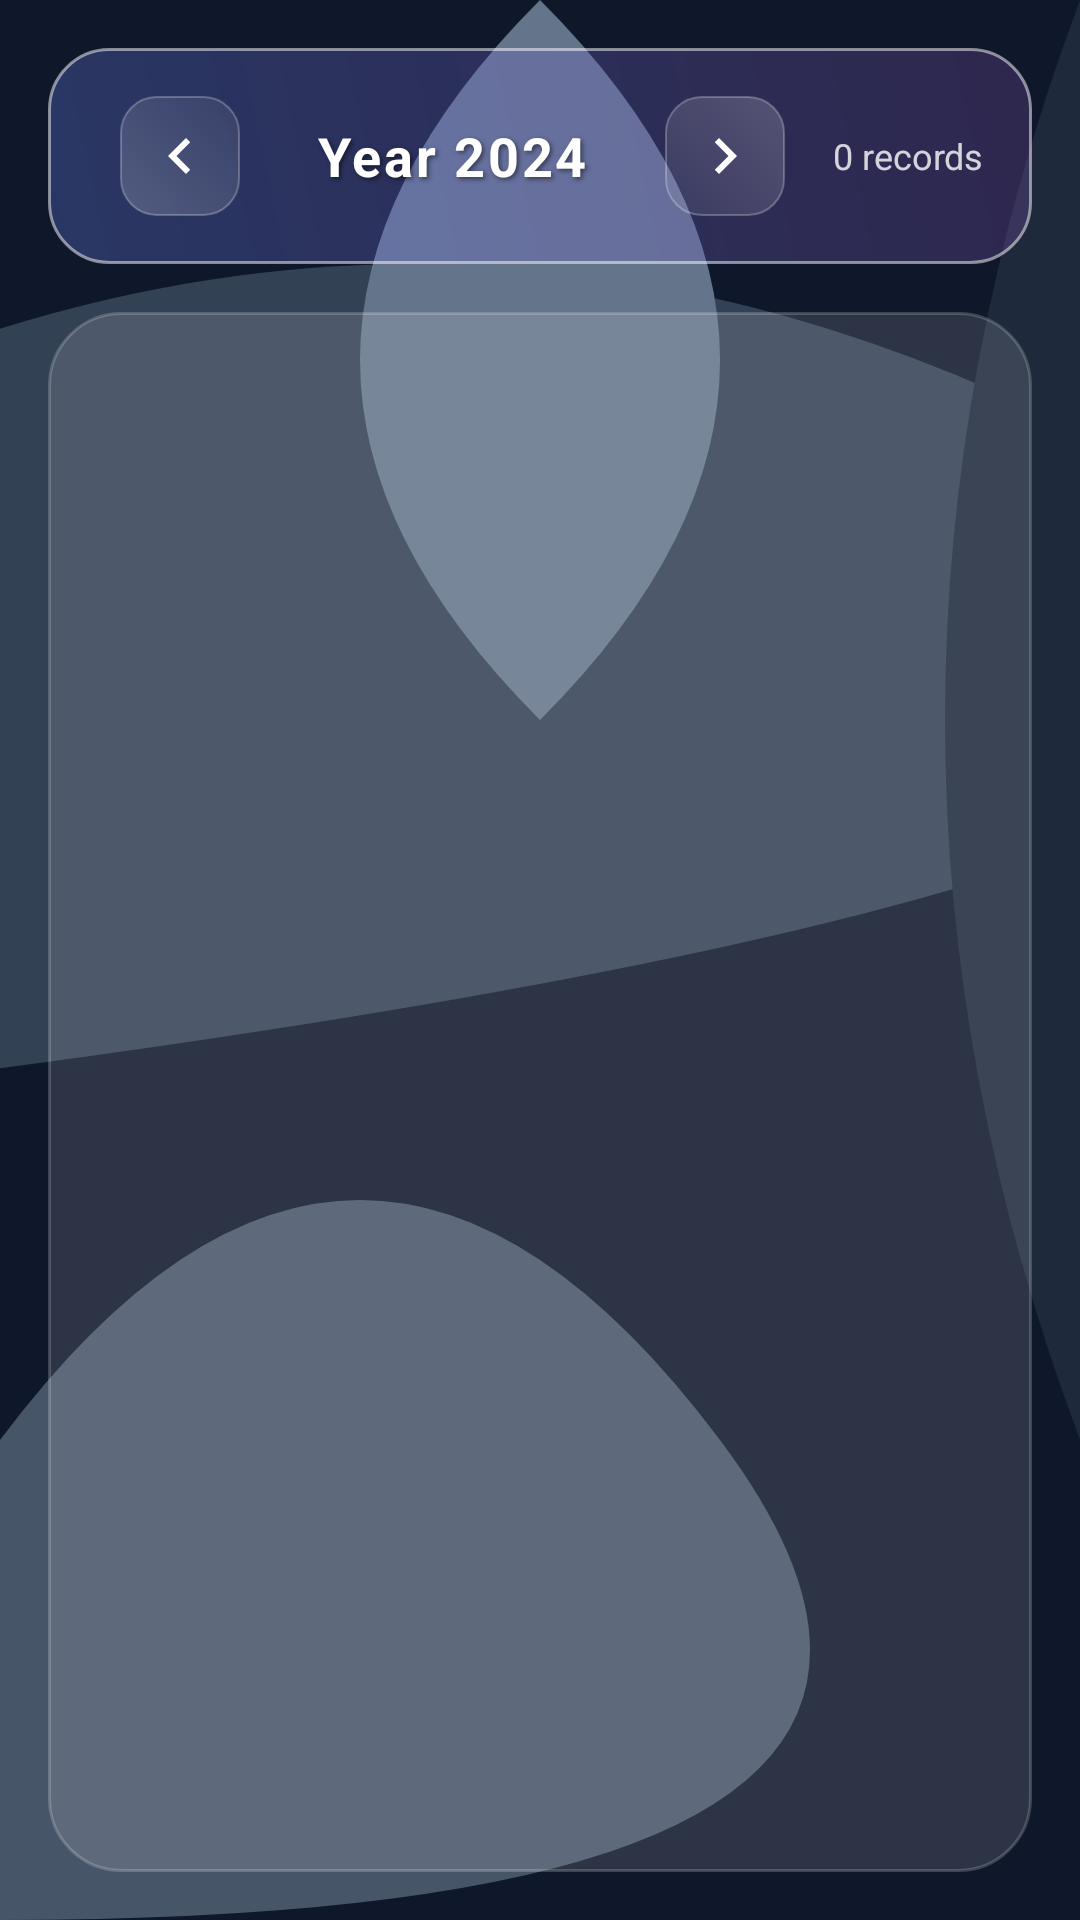

Screen size 1080x1920. Icon name, then its center in pixels as [x,y]:
Previous Year: [180,156]
